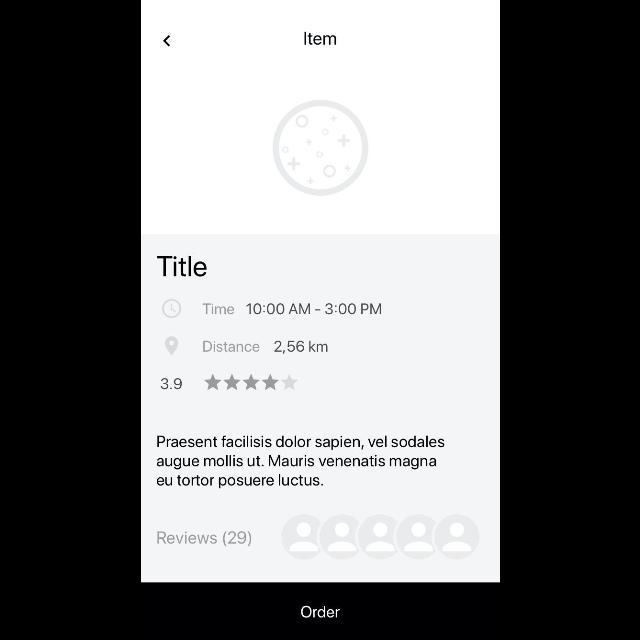icon: (436, 514, 478, 560), (396, 514, 436, 560), (282, 514, 321, 560), (356, 514, 396, 558), (204, 374, 298, 392), (320, 514, 356, 558), (162, 299, 182, 319), (164, 336, 178, 356), (163, 36, 171, 46)
image: (272, 100, 368, 196)
text: (156, 436, 444, 488), (246, 303, 380, 315), (157, 531, 251, 547), (156, 255, 206, 277), (273, 340, 327, 354), (202, 341, 260, 352), (304, 32, 336, 46), (202, 304, 234, 314), (160, 378, 180, 392)
textbutton: (140, 582, 500, 640)
